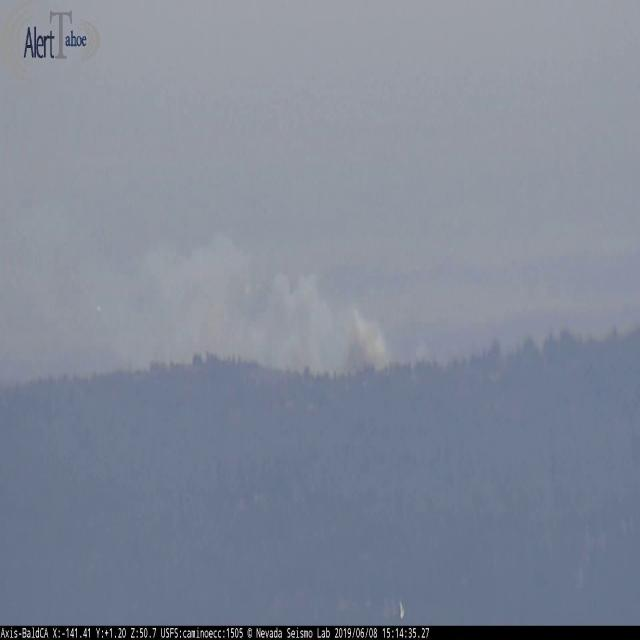smoke: (41, 196, 424, 392)
